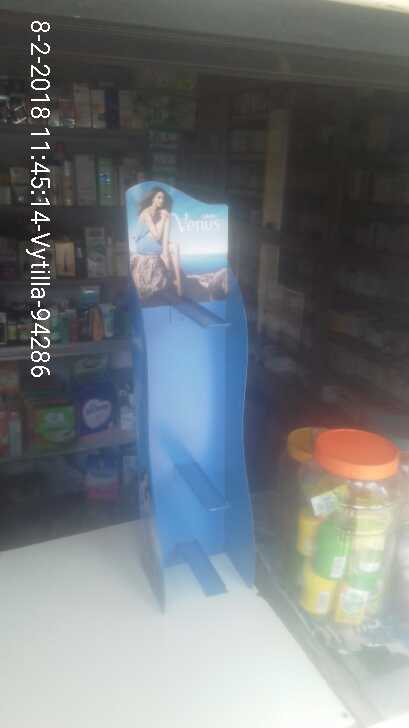reject: (118, 151, 235, 249)
